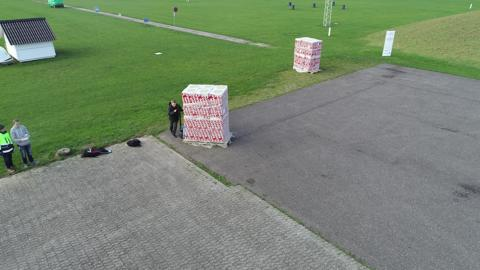RockwoolPallet: (181, 81, 232, 144)
